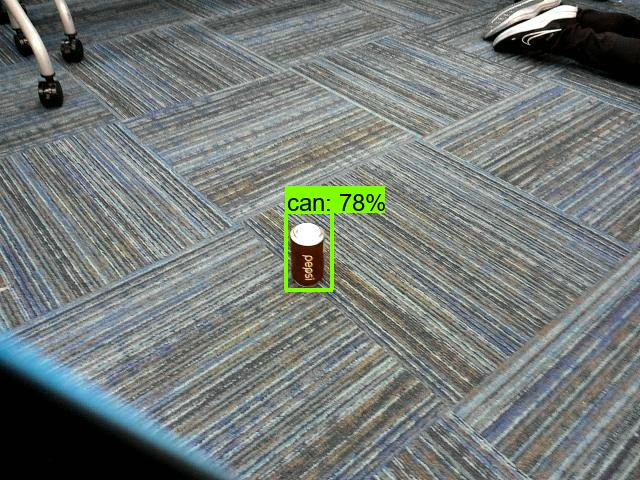can: (281, 222, 341, 291)
